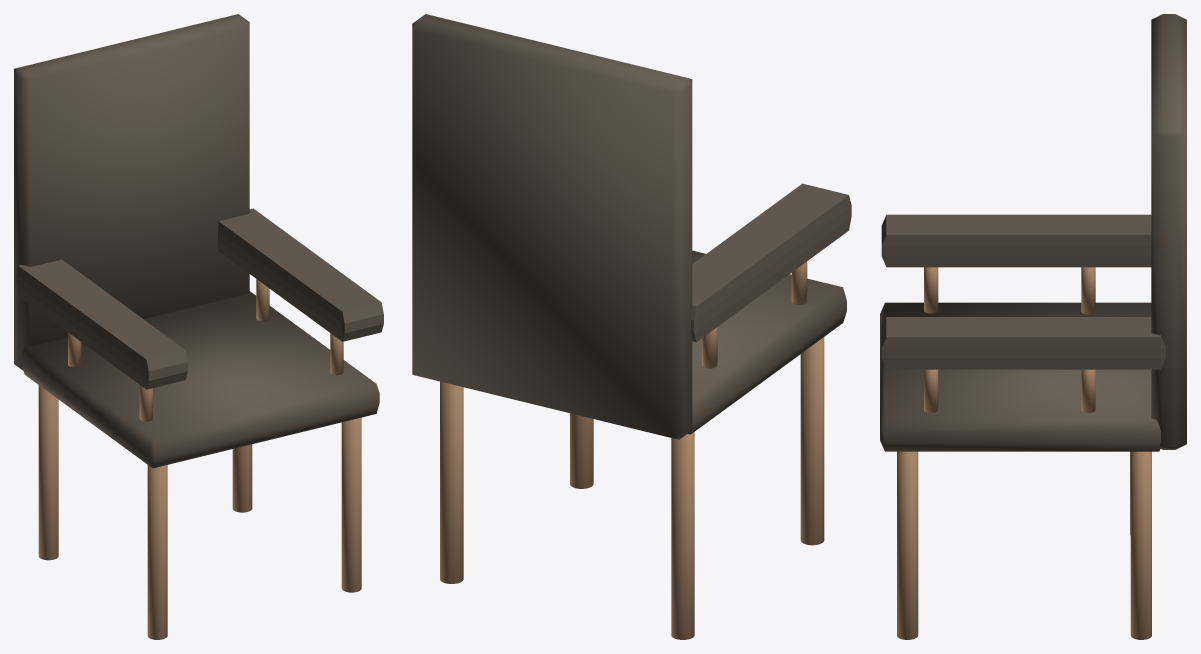
The picture shows the model from 3 angles, left to right: view 1: azimuth 30°, elevation 25°; view 2: azimuth 150°, elevation 25°; view 3: azimuth 270°, elevation 25°; orthographic projection. The views are drawn at different scales.
Visible parts, largest first — view 1: Cube.001, Cube, Cube.003, Cube.002, Cylinder, Cylinder.001, Cylinder.003, Cylinder.002, Cylinder.005, Cylinder.007; view 2: Cube.001, Cube.003, Cube, Cylinder, Cylinder.003, Cylinder.002, Cylinder.001, Cylinder.004; view 3: Cube, Cube.001, Cube.002, Cube.003, Cylinder.001, Cylinder.002, Cylinder.006, Cylinder.004, Cylinder.007, Cylinder.005.
Boxes of the visible parts, x1,y1,x2,y2 form: Cube.001: (14,14,249,370); Cube: (21,291,379,468); Cube.003: (16,259,187,389); Cube.002: (218,208,383,341); Cylinder: (147,465,167,639); Cylinder.001: (341,417,361,592); Cylinder.003: (38,385,58,560); Cylinder.002: (232,444,252,512); Cylinder.005: (256,279,269,321); Cylinder.007: (330,333,343,375); Cube.001: (412,14,692,439); Cube.003: (691,183,851,342); Cube: (687,250,846,434); Cylinder: (800,337,824,545); Cylinder.003: (671,432,694,639); Cylinder.002: (440,381,463,583); Cylinder.001: (570,413,593,488); Cylinder.004: (791,261,807,304); Cube: (880,302,1160,451); Cube.001: (1151,14,1186,449); Cube.002: (881,317,1165,369); Cube.003: (881,214,1151,267); Cylinder.001: (897,451,918,639); Cylinder.002: (1130,451,1151,639); Cylinder.006: (1081,267,1095,314); Cylinder.004: (924,267,938,313); Cylinder.007: (924,369,938,412); Cylinder.005: (1081,369,1095,412).
Size of the model in its own units: 0.4109 by 0.798 by 0.432.
